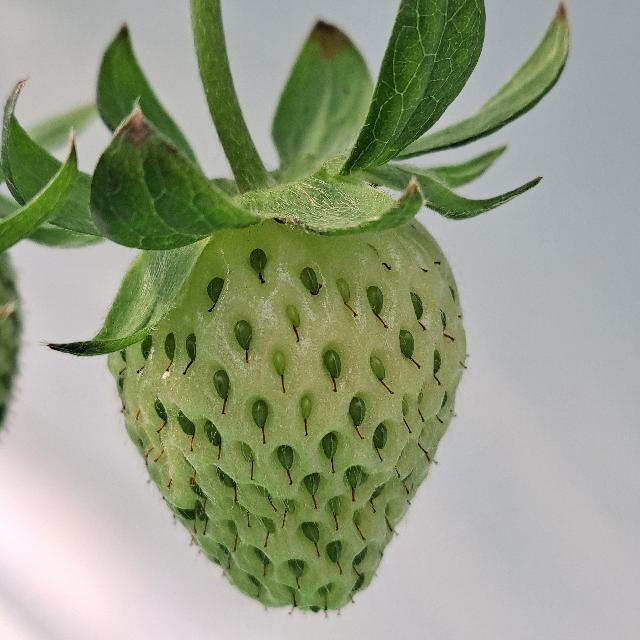Health_25: (108, 217, 466, 611)
